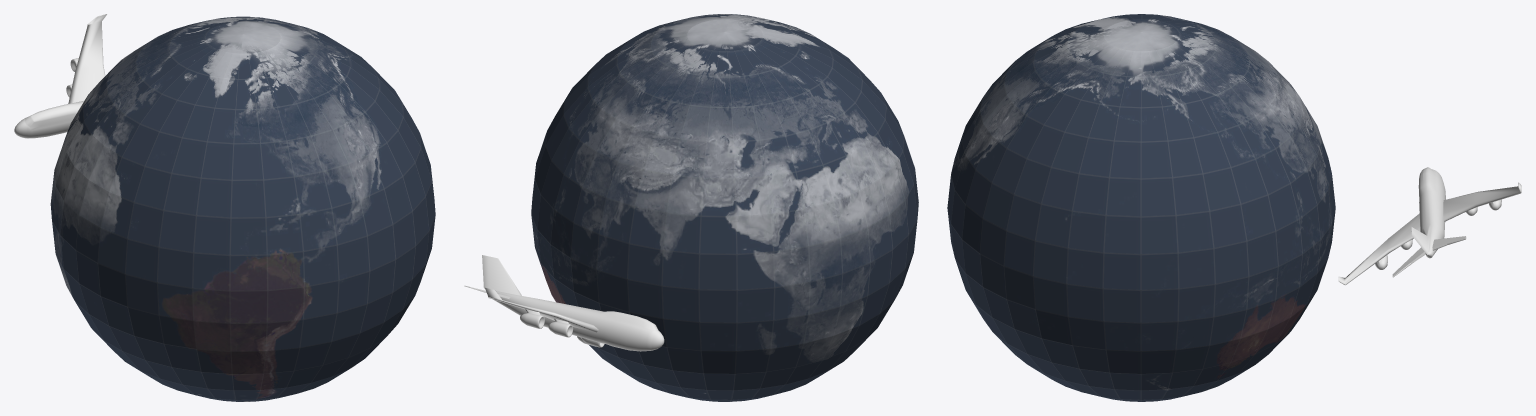
File: Around_World.glb
3 renders of one model, left to right at view 1: azimuth 30°, elevation 25°; view 2: azimuth 150°, elevation 25°; view 3: azimuth 270°, elevation 25°, orthographic.
Visible parts, largest first — view 1: Sphere, Plane; view 2: Sphere, Plane; view 3: Sphere, Plane.
Part boxes in pixels (x1,y1,x2,y2): Sphere: (50,16,435,401); Plane: (14,14,106,138); Sphere: (531,14,918,401); Plane: (464,255,664,351); Sphere: (947,14,1335,401); Plane: (1338,167,1521,285).
Size of the model in its own units: 62 by 62 by 91.67.
Materials: 1 (1 with a texture image).
